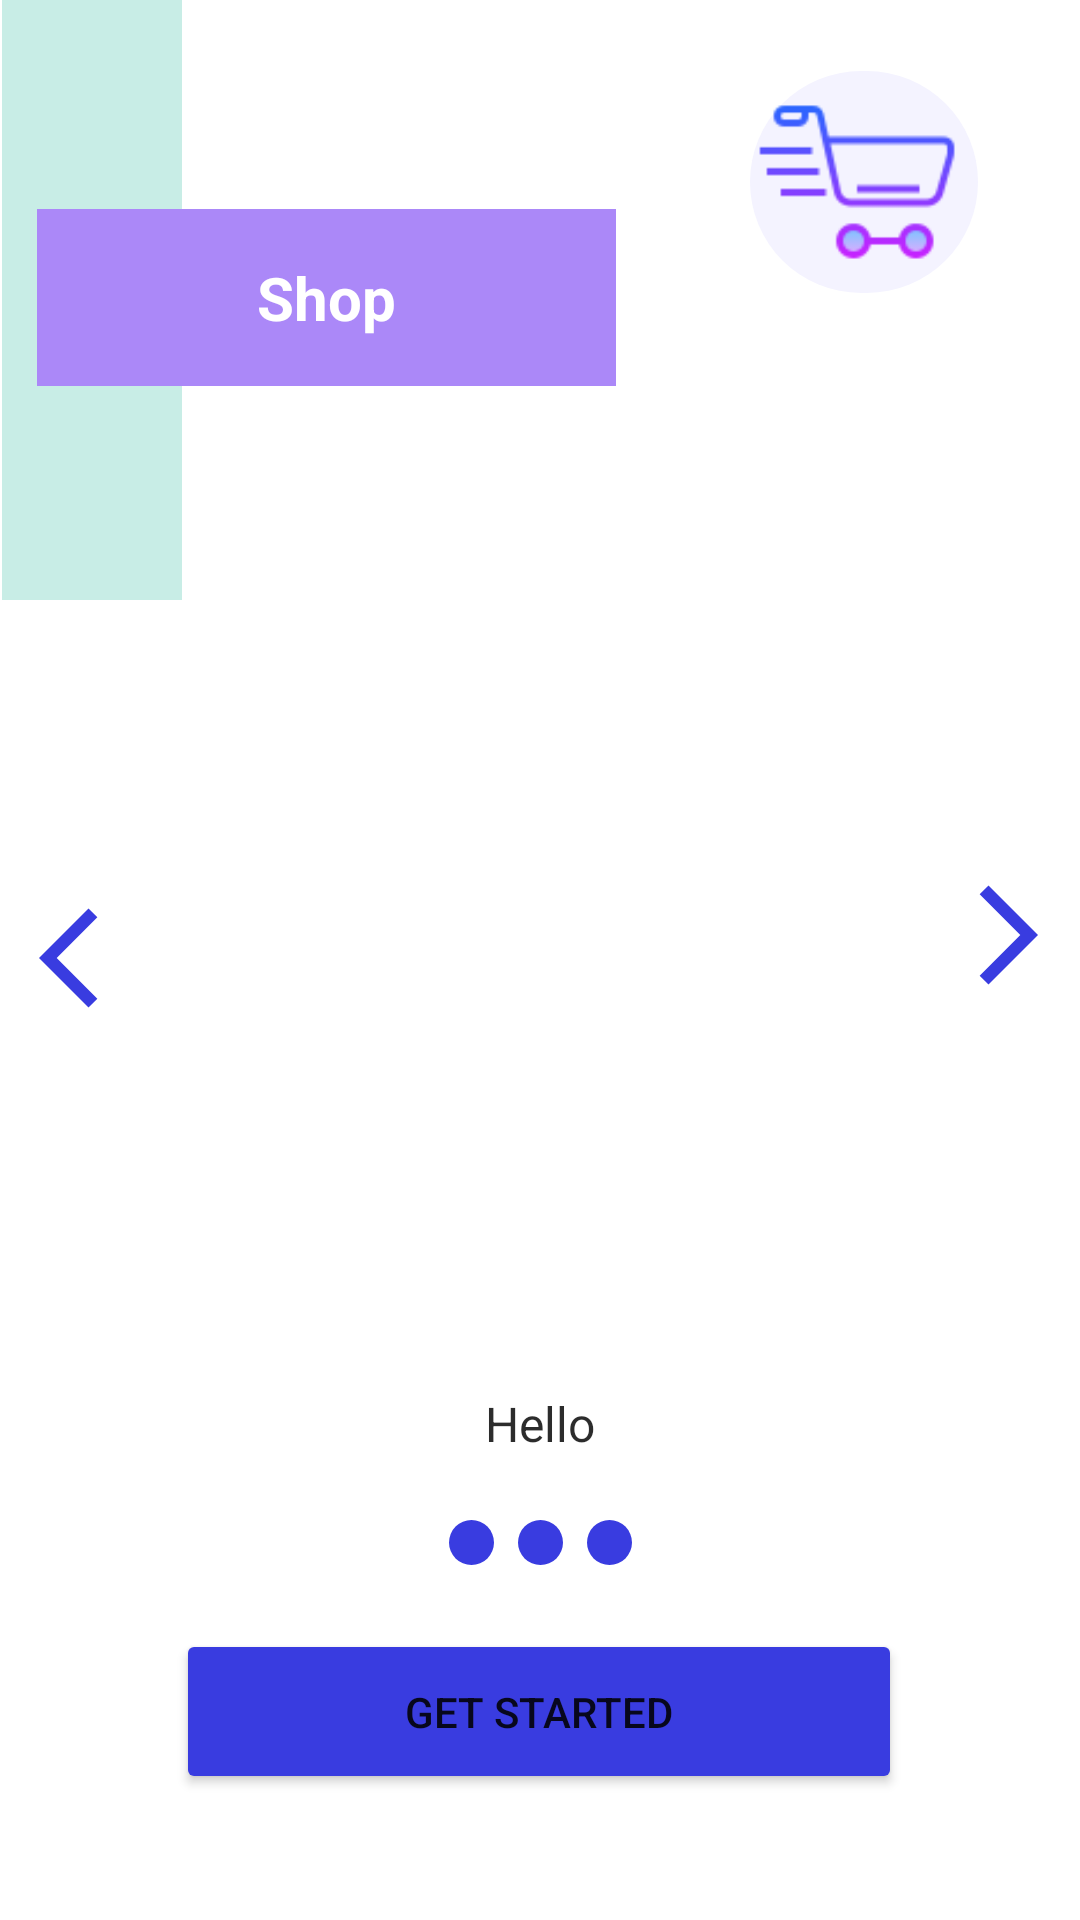

Icon bounding boxes for this 1080×1920 phone screenshot, format (x1, y1, x2, y2):
fast cart: (750, 71, 978, 293)
